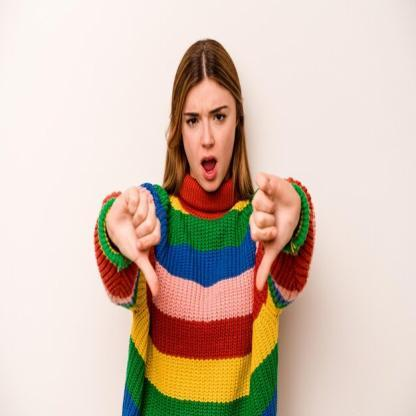thumb_down: (105, 181, 162, 301), (248, 166, 300, 292)
